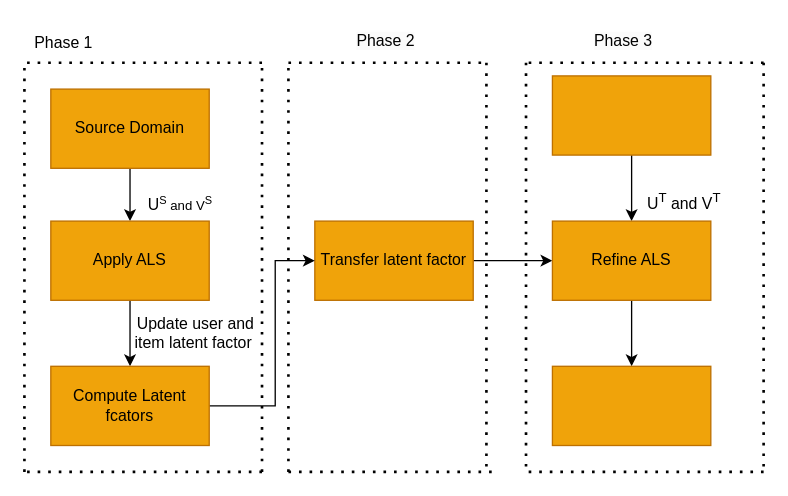
Image size: 788x496. Some labels were removed from this diagram. The centre of each missing label's shape, as x and y in pixels:
"Predict Target rating" belongs at [631,405].
"Target Domain" belongs at [631,115].
